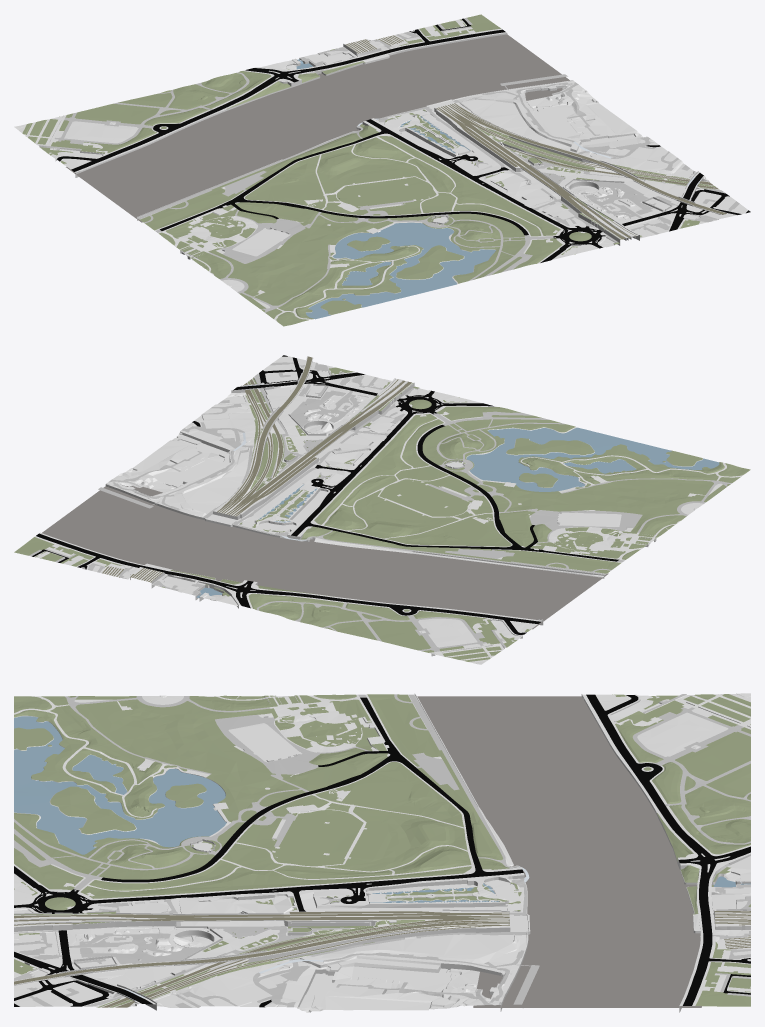
File: TQ2877_Terrain_LOD_1_draco.glb
3 renders of one model, top to bottom at view 1: azimuth 30°, elevation 25°; view 2: azimuth 150°, elevation 25°; view 3: azimuth 270°, elevation 25°, orthographic. The views are drawn at different scales.
Visible parts, largest first — view 1: TQ2877_Terrain; view 2: TQ2877_Terrain; view 3: TQ2877_Terrain.
Part boxes in pixels (left/top/right/bottom): TQ2877_Terrain: left=14, top=14, right=750, bottom=326; TQ2877_Terrain: left=14, top=355, right=750, bottom=664; TQ2877_Terrain: left=14, top=693, right=750, bottom=1012.
Size of the model in its own units: 1000 by 19.11 by 1000.
Materials: 1 (1 with a texture image).
